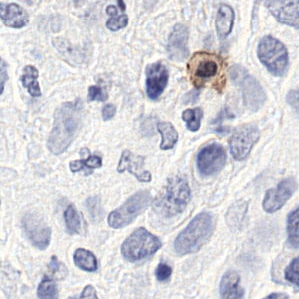Lymphocyte: (186, 51, 226, 90)
